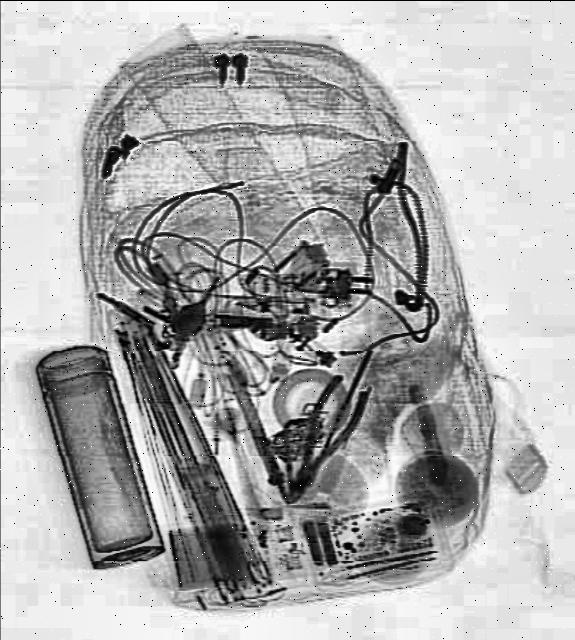Pliers: (269, 368, 375, 510)
